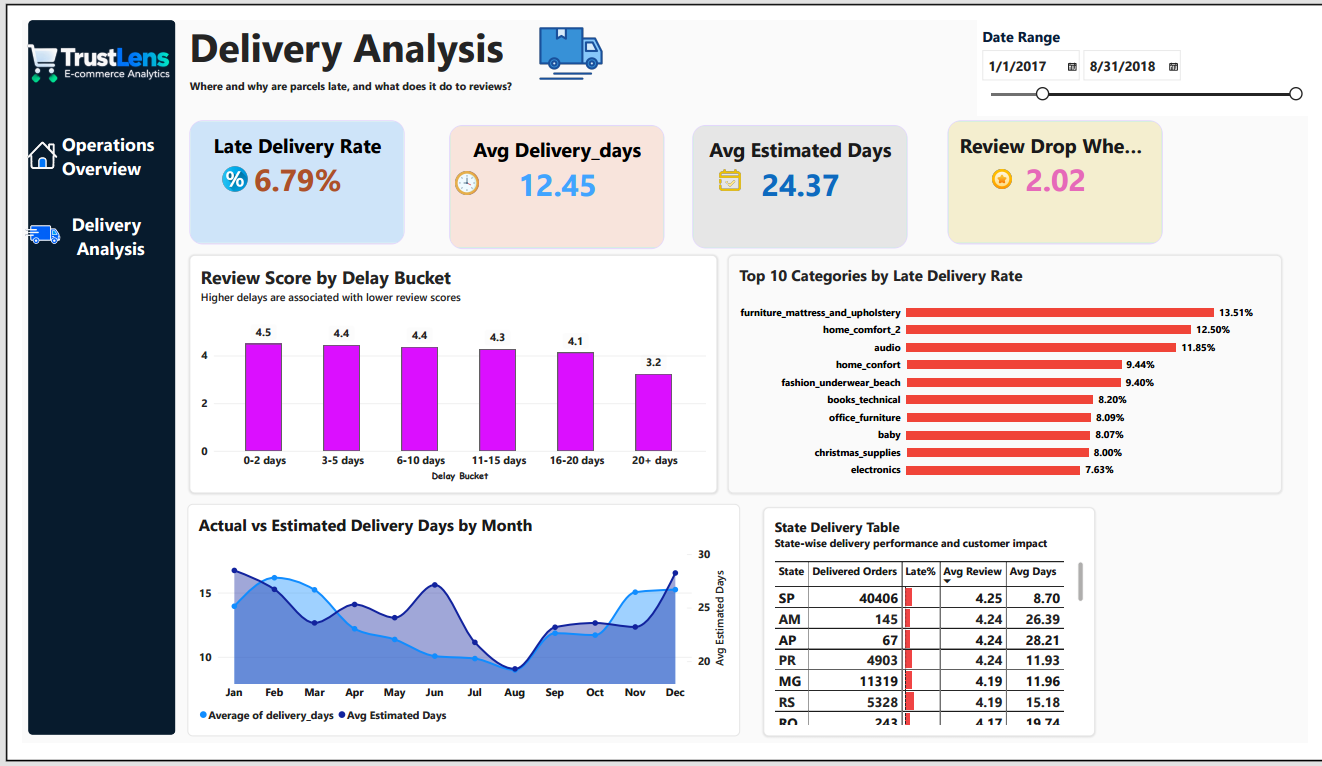

The dashboard page shown, as its layout file describes it:
{"tool":"powerbi","page":{"name":"Delivery Analysis","canvas":[1920,1080],"ordinal":1},"visuals":[{"type":"cardVisual","fields":{"Data":["trustlens_final_data_cleaned.Late Delivery Rate"]},"box":[249.6,150.2,321.2,184.9],"z":0},{"type":"cardVisual","fields":{"Data":["trustlens_final_data_cleaned.Avg Estimated Days"]},"box":[1000.7,157.2,321,184],"z":1000},{"type":"cardVisual","fields":{"Data":["Avg(trustlens_final_data_cleaned.delivery_days)"]},"box":[637.8,157.2,321,184.9],"z":2000},{"type":"cardVisual","fields":{"Data":["trustlens_final_data_cleaned.Review Drop When Late"]},"box":[1382,150.2,321,184.9],"z":3000},{"type":"clusteredBarChart","title":"Top 10 Categories by Late Delivery Rate ","fields":{"Category":["trustlens_final_data_cleaned.product_category_name_english"],"Y":["trustlens_final_data_cleaned.Late Delivery Rate"]},"box":[1053.8,351.3,827.4,355.9],"z":4000},{"type":"slicer","fields":{"Values":["DateTable.Date"]},"box":[1425.9,0,494.6,143.3],"z":5000},{"type":"textbox","box":[100,100,300,300],"z":6000},{"type":"textbox","box":[152.5,0,697.9,87.8],"z":7000},{"type":"textbox","box":[228.8,87.8,533.8,53.2],"z":8000},{"type":"clusteredColumnChart","title":"Review Score by Delay Bucket","fields":{"Category":["trustlens_final_data_cleaned.Delay Bucket"],"Y":["trustlens_final_data_cleaned.Avg Review Score"]},"box":[249.6,351.3,788.1,355.9],"z":9000},{"type":"lineChart","title":"Actual vs Estimated Delivery Days by Month","fields":{"Category":["DateTable.Month"],"Y":["Avg(trustlens_final_data_cleaned.delivery_days)"],"Y2":["trustlens_final_data_cleaned.Avg Estimated Days"]},"box":[247.3,723.4,825,346.7],"z":10000},{"type":"tableEx","title":"State Delivery Table","fields":{"Values":["customers.customer_state","trustlens_final_data_cleaned.Delivered Orders","trustlens_final_data_cleaned.Late Delivery Rate","trustlens_final_data_cleaned.Avg Review Score","Avg(trustlens_final_data_cleaned.delivery_days)"]},"box":[1107.4,722.5,533.1,358.1],"z":11000},{"type":"image","box":[760.3,0,117.9,99.4],"z":12000},{"type":"image","box":[134,184.9,37,64.7],"z":13000},{"type":"image","box":[1037.7,219.5,37,39.3],"z":14000},{"type":"image","box":[683.4,201.7,34.7,74],"z":15000},{"type":"image","box":[1449,217.2,27.7,39.3],"z":16000},{"type":"shape","box":[9.2,0,219.5,1067.7],"z":17000},{"type":"image","box":[300.4,212.6,37,48.5],"z":18000},{"type":"image","box":[0,0,228.8,127.1],"z":19000},{"type":"textbox","box":[1703,150,217,185],"z":20000},{"type":"textbox","box":[60.1,166.4,219.5,80.9],"z":21000},{"type":"image","box":[0,145.6,60.1,110.9],"z":22000},{"type":"actionButton","box":[9.2,171,219.5,78.6],"z":23000},{"type":"textbox","box":[8.2,286.1,220.2,72],"z":24000},{"type":"image","box":[0,279.6,60.1,78.6],"z":25000},{"type":"actionButton","box":[37,427.5,242.7,101.7],"z":26000}]}

Visuals, with their boxes on the page's 1920x1080 design canvas (x1, y1, x2, y2). These are canvas units, not pixel positions in the 1322x766 screenshot, which may show the page scaled, cropped or inside an application window:
cardVisual - trustlens_final_data_cleaned.Late Delivery Rate: pyautogui.locateOnScreen(250, 150, 571, 335)
cardVisual - trustlens_final_data_cleaned.Avg Estimated Days: pyautogui.locateOnScreen(1001, 157, 1322, 341)
cardVisual - Avg(trustlens_final_data_cleaned.delivery_days): pyautogui.locateOnScreen(638, 157, 959, 342)
cardVisual - trustlens_final_data_cleaned.Review Drop When Late: pyautogui.locateOnScreen(1382, 150, 1703, 335)
"Top 10 Categories by Late Delivery Rate " clusteredBarChart: pyautogui.locateOnScreen(1054, 351, 1881, 707)
slicer - DateTable.Date: pyautogui.locateOnScreen(1426, 0, 1920, 143)
textbox: pyautogui.locateOnScreen(100, 100, 400, 400)
textbox: pyautogui.locateOnScreen(152, 0, 850, 88)
textbox: pyautogui.locateOnScreen(229, 88, 763, 141)
"Review Score by Delay Bucket" clusteredColumnChart: pyautogui.locateOnScreen(250, 351, 1038, 707)
"Actual vs Estimated Delivery Days by Month" lineChart: pyautogui.locateOnScreen(247, 723, 1072, 1070)
"State Delivery Table" tableEx: pyautogui.locateOnScreen(1107, 722, 1640, 1081)
image: pyautogui.locateOnScreen(760, 0, 878, 99)
image: pyautogui.locateOnScreen(134, 185, 171, 250)
image: pyautogui.locateOnScreen(1038, 220, 1075, 259)
image: pyautogui.locateOnScreen(683, 202, 718, 276)
image: pyautogui.locateOnScreen(1449, 217, 1477, 256)
shape: pyautogui.locateOnScreen(9, 0, 229, 1068)
image: pyautogui.locateOnScreen(300, 213, 337, 261)
image: pyautogui.locateOnScreen(0, 0, 229, 127)
textbox: pyautogui.locateOnScreen(1703, 150, 1920, 335)
textbox: pyautogui.locateOnScreen(60, 166, 280, 247)
image: pyautogui.locateOnScreen(0, 146, 60, 256)
actionButton: pyautogui.locateOnScreen(9, 171, 229, 250)
textbox: pyautogui.locateOnScreen(8, 286, 228, 358)
image: pyautogui.locateOnScreen(0, 280, 60, 358)
actionButton: pyautogui.locateOnScreen(37, 428, 280, 529)
